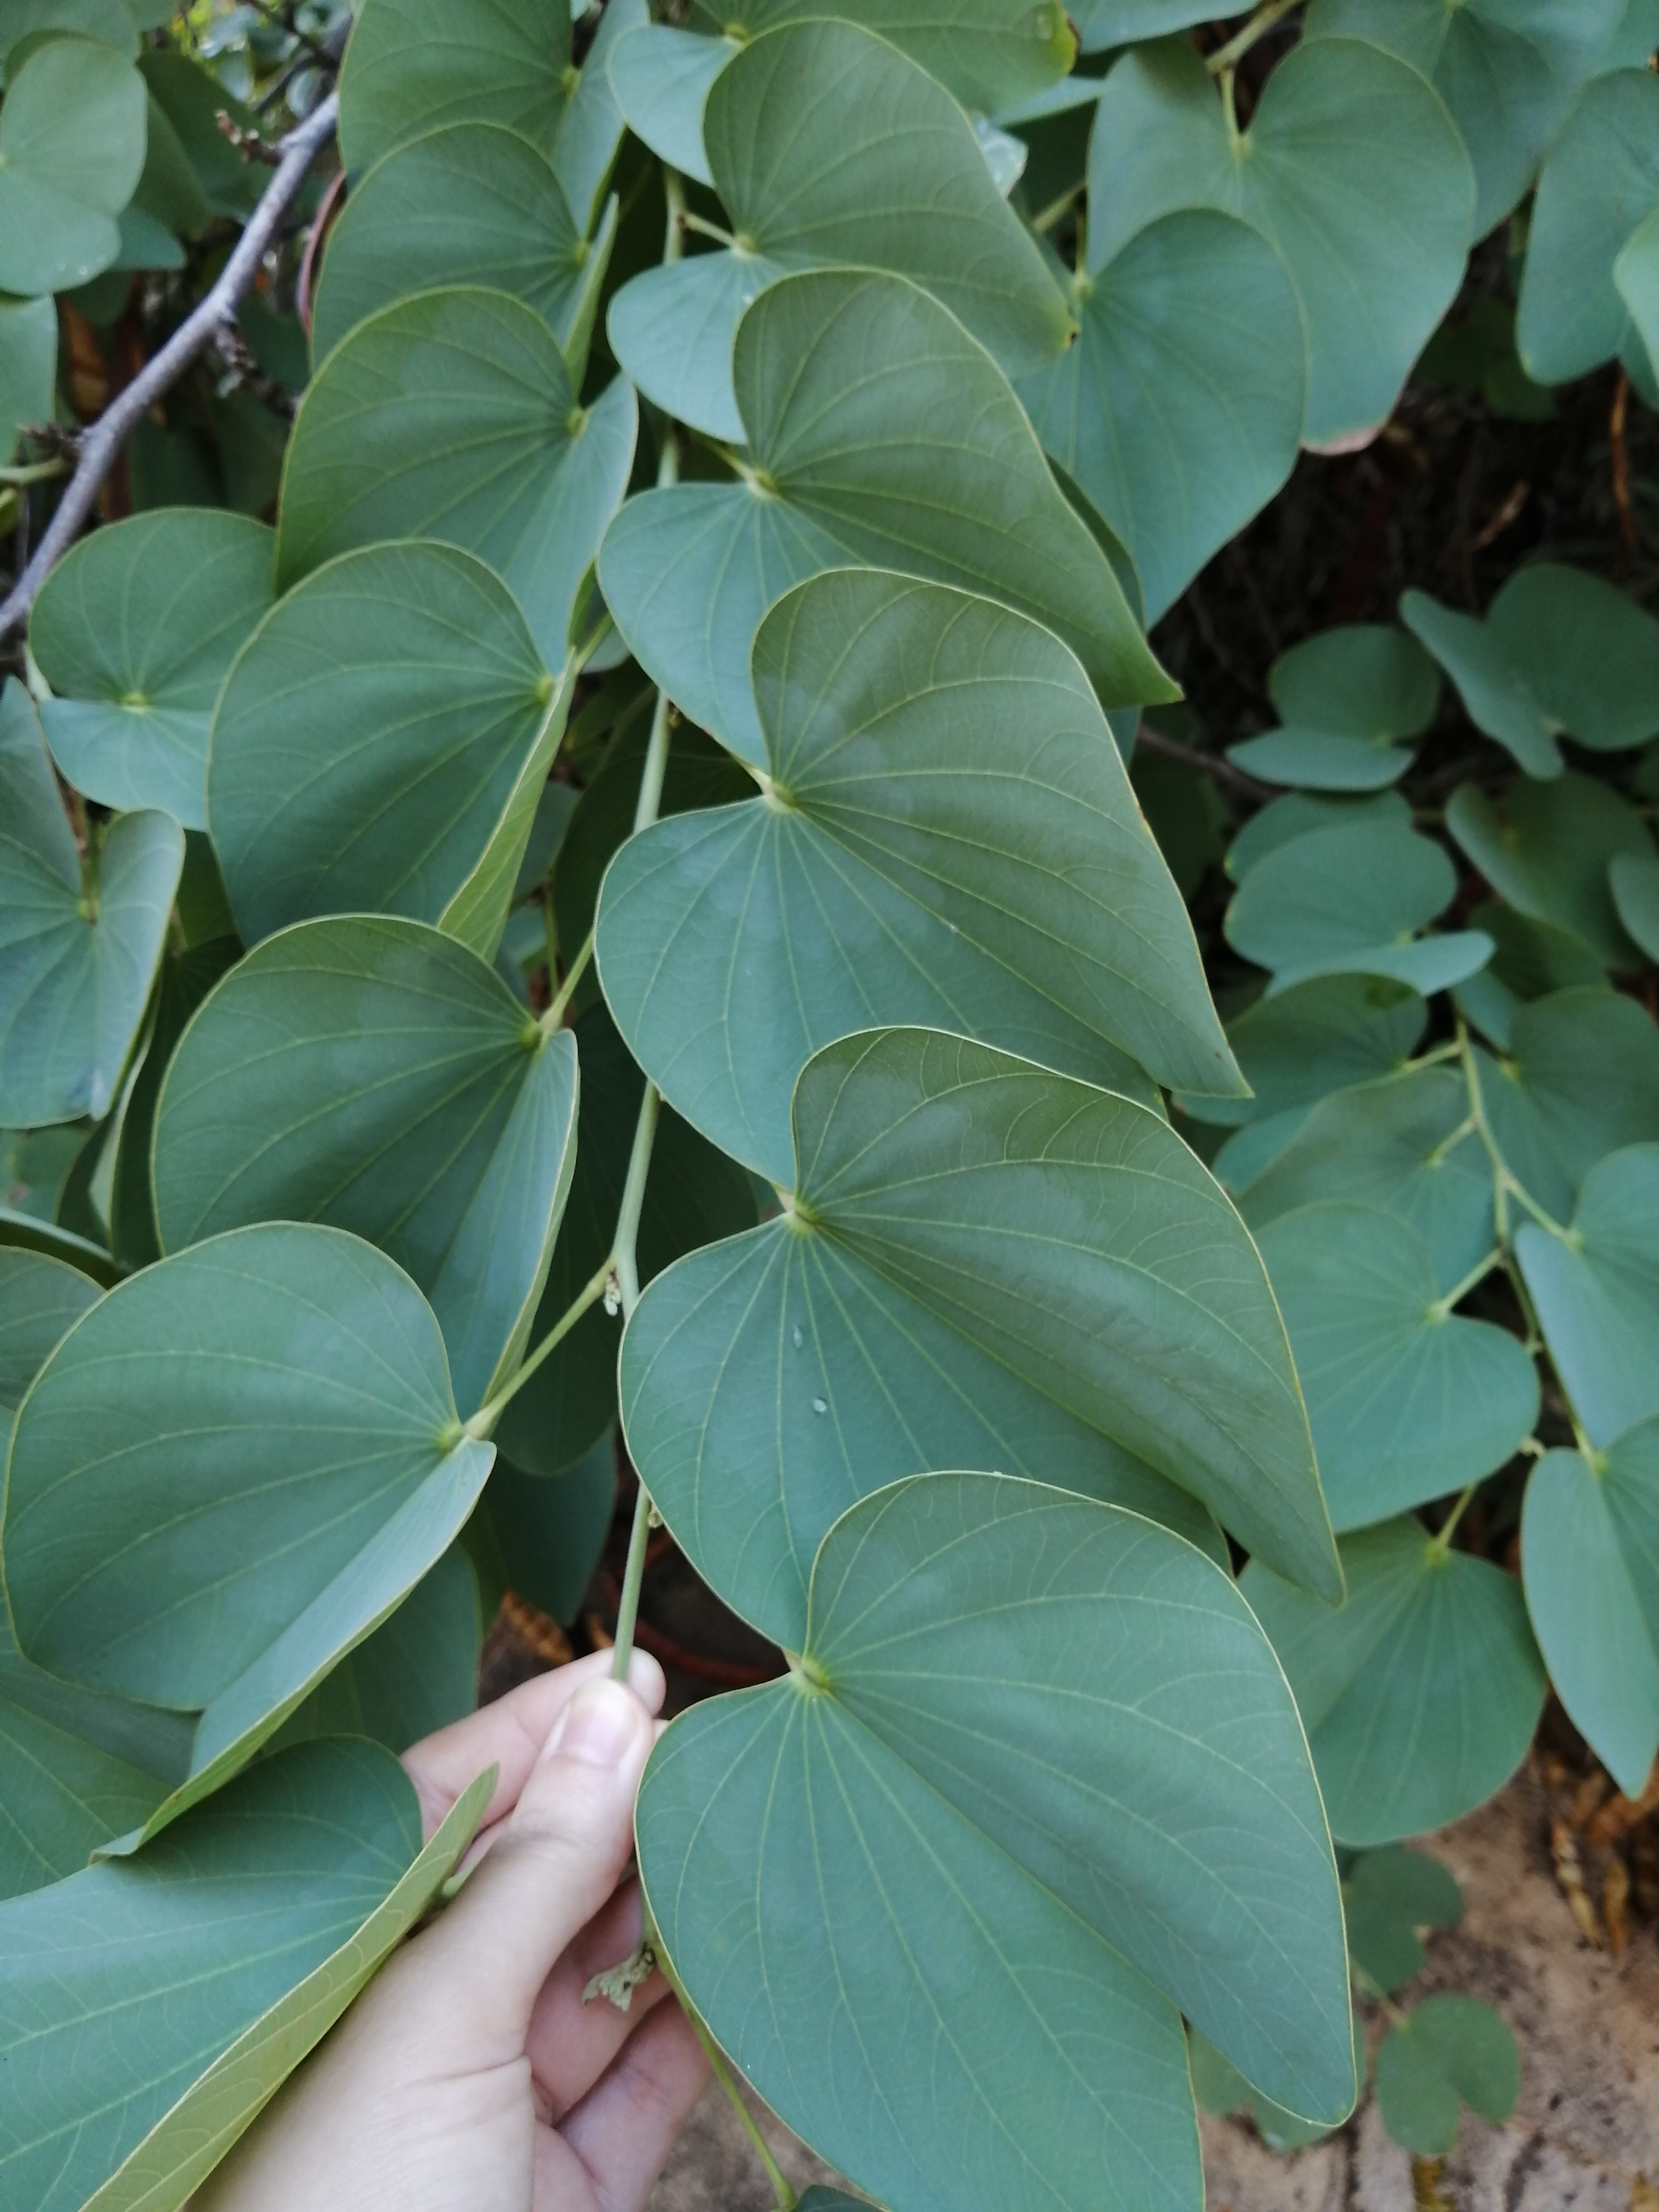healthy: (645, 1440, 1321, 2168), (657, 1089, 1300, 1686), (660, 550, 1150, 1273), (0, 1285, 519, 1775), (108, 932, 636, 1336), (648, 286, 1101, 742), (645, 26, 1056, 475), (249, 322, 666, 704), (225, 596, 617, 974), (1164, 16, 1453, 385), (1021, 190, 1342, 514), (1453, 1444, 1659, 1871), (1450, 1170, 1659, 1480), (1375, 566, 1656, 792), (1246, 789, 1499, 1033)
